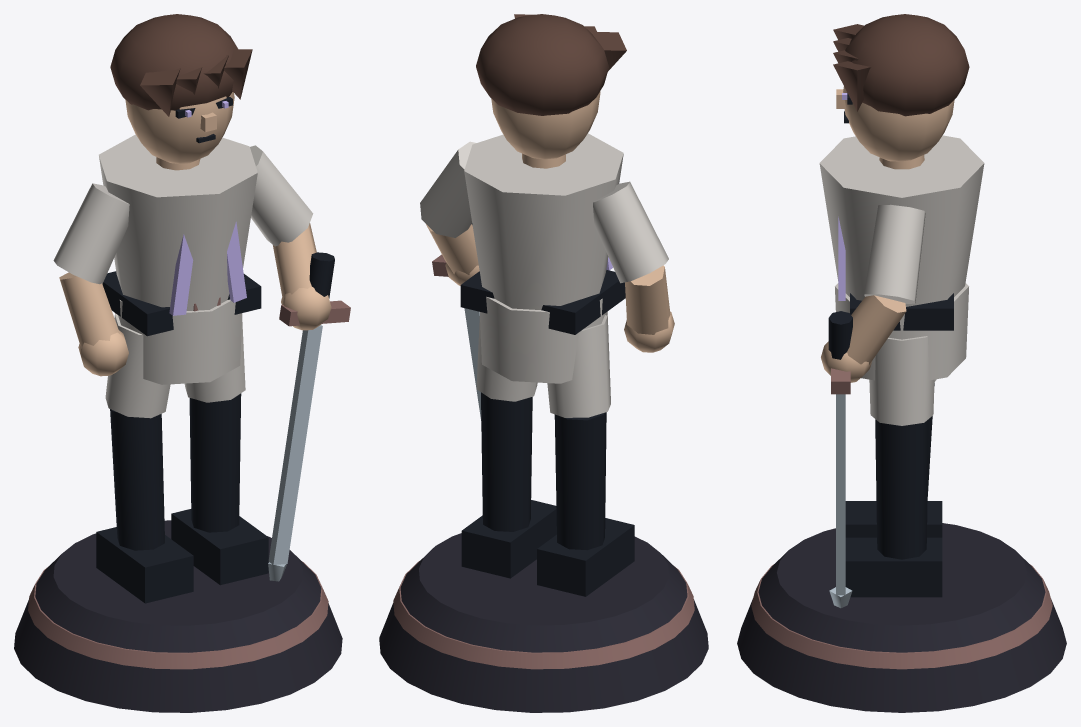
The model's file is aizen.glb.
3 renders of one model, left to right at view 1: azimuth 30°, elevation 25°; view 2: azimuth 150°, elevation 25°; view 3: azimuth 270°, elevation 25°, orthographic.
Parts seen in each view (by area): view 1: Placeholder Sosuke Aizen; view 2: Placeholder Sosuke Aizen; view 3: Placeholder Sosuke Aizen.
Part boxes in pixels (x1=…): Placeholder Sosuke Aizen: x1=14, y1=14, x2=350, y2=712; Placeholder Sosuke Aizen: x1=379, y1=14, x2=708, y2=712; Placeholder Sosuke Aizen: x1=737, y1=14, x2=1066, y2=712.
Size of the model in its own units: 0.54 by 1.12 by 0.54.
